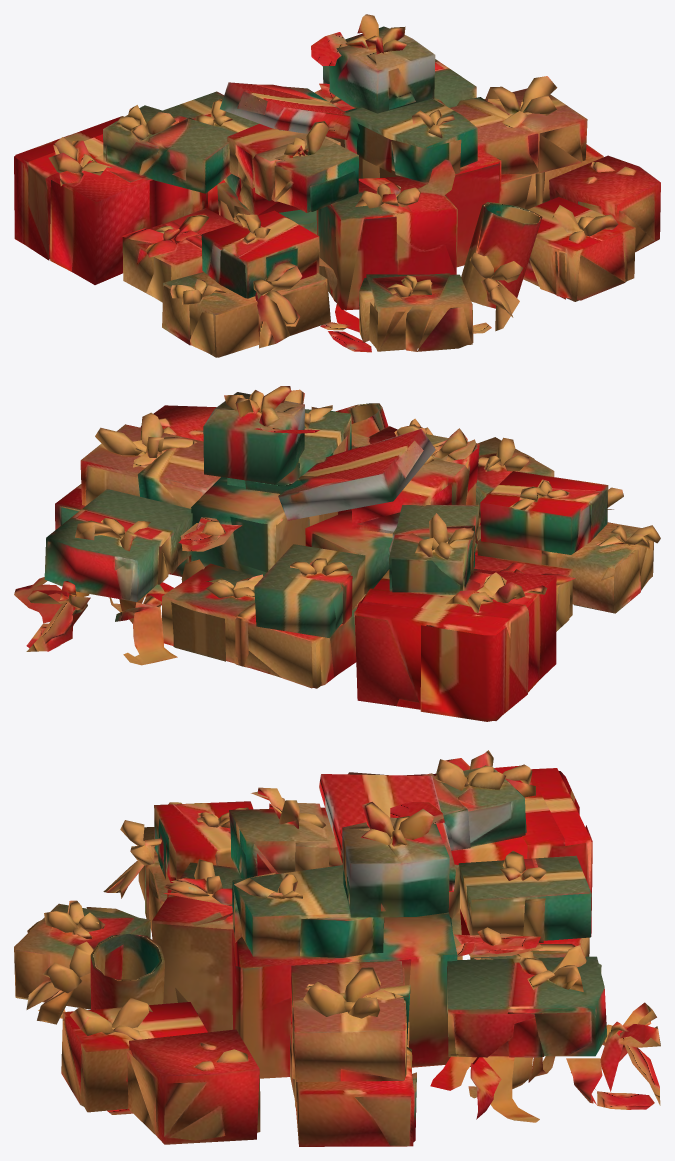
Rendered from xmas_presents.glb.
3 views of the same model, one above another, from view 1: azimuth 30°, elevation 25°; view 2: azimuth 150°, elevation 25°; view 3: azimuth 270°, elevation 25° (orthographic). The views are drawn at different scales.
Size of the model in its own units: 1 by 0.4217 by 0.9768.
Materials: 1 (1 with a texture image).
